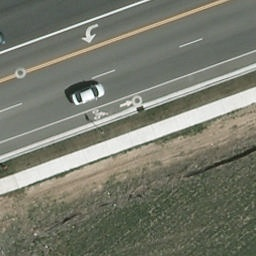car: (69, 82, 107, 106)
